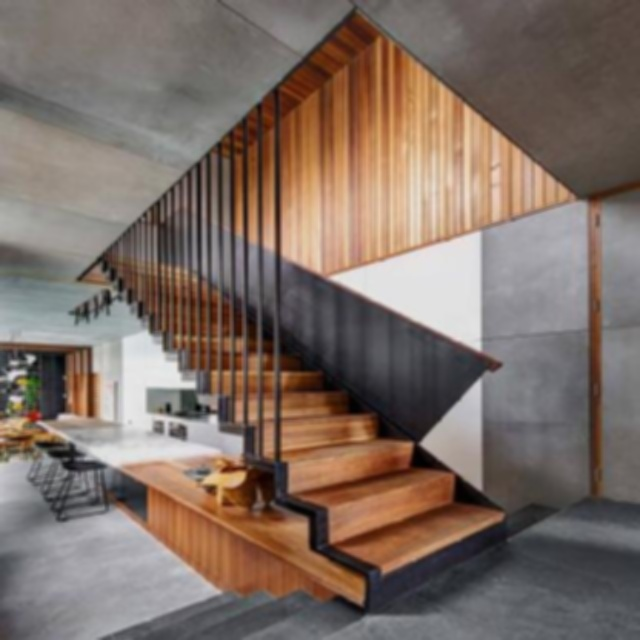stair: (81, 244, 556, 591)
